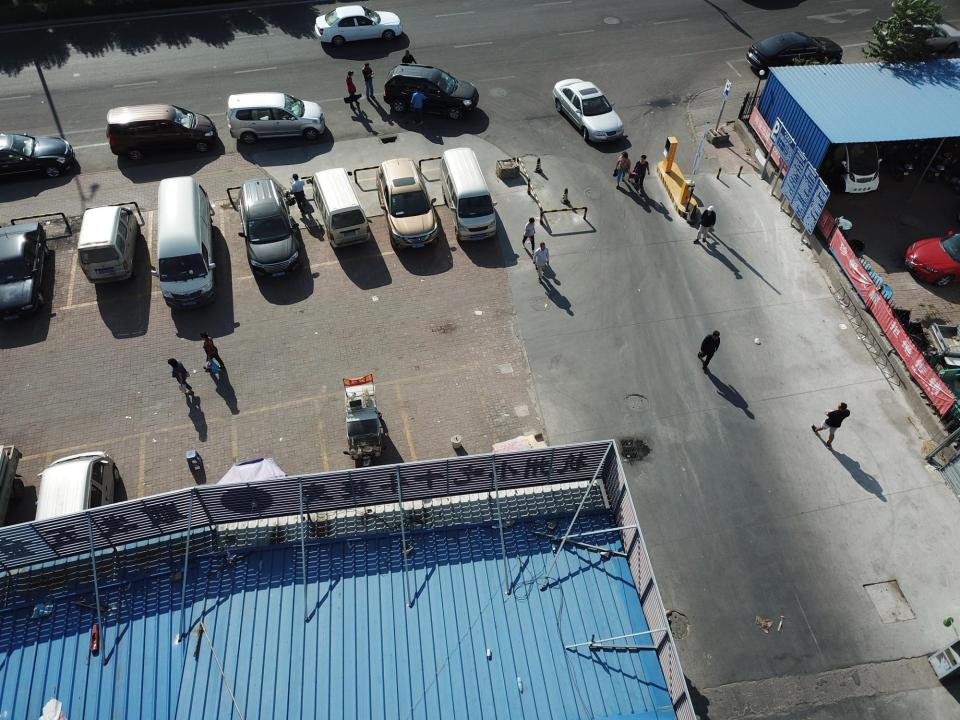car: (237, 177, 304, 280), (375, 157, 441, 251), (383, 62, 480, 120), (226, 91, 326, 145), (0, 220, 50, 322), (551, 78, 625, 145), (745, 30, 843, 80), (313, 4, 403, 47), (0, 132, 76, 179), (903, 228, 960, 286)
van: (34, 448, 122, 564), (151, 175, 218, 312), (105, 103, 218, 161), (438, 146, 498, 243), (306, 167, 371, 249), (77, 206, 139, 284)
